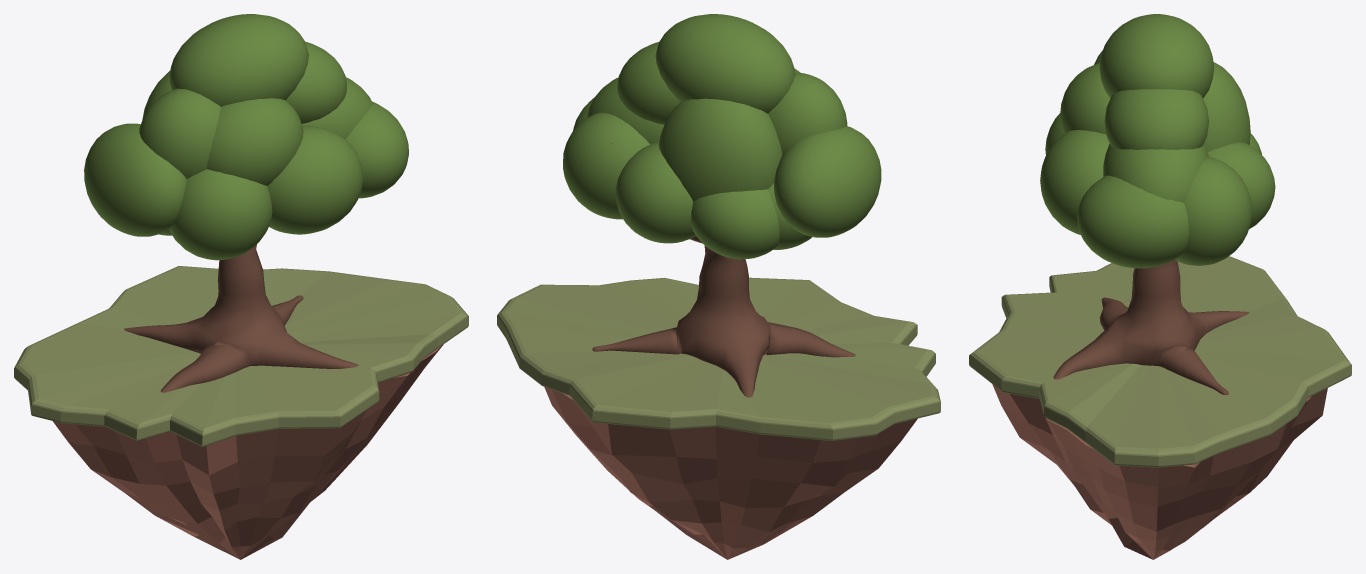
Rendered from island_spring.glb.
3 renders of one model, left to right at view 1: azimuth 30°, elevation 25°; view 2: azimuth 150°, elevation 25°; view 3: azimuth 270°, elevation 25°, orthographic.
Visible parts, largest first — view 1: Grass, Rock, trunk, top.004, top.003, top.008, top.007, top, top.002, top.005, top.006, top.001; view 2: Grass, Rock, trunk, top.004, top.010, top.003, top.009, top.012, top.011, top.002, top.006, top.001 (+1 smaller); view 3: Grass, Rock, trunk, top.005, top.004, top.006, top.009, top.008, top.001, top.010, top, top.012.
Part boxes in pixels (bbox=[...]): Grass: bbox=[14, 266, 468, 446]; Rock: bbox=[53, 344, 443, 559]; trunk: bbox=[124, 244, 358, 392]; top.004: bbox=[169, 14, 308, 106]; top.003: bbox=[84, 123, 186, 236]; top.008: bbox=[267, 125, 363, 234]; top.007: bbox=[169, 169, 272, 260]; top: bbox=[207, 98, 303, 185]; top.002: bbox=[139, 88, 220, 178]; top.005: bbox=[345, 101, 408, 198]; top.006: bbox=[285, 41, 346, 123]; top.001: bbox=[302, 77, 372, 139]; Grass: bbox=[497, 277, 940, 440]; Rock: bbox=[544, 387, 917, 559]; trunk: bbox=[592, 143, 855, 397]; top.004: bbox=[655, 14, 795, 113]; top.010: bbox=[658, 98, 782, 201]; top.003: bbox=[773, 126, 881, 237]; top.009: bbox=[563, 113, 649, 219]; top.012: bbox=[615, 142, 695, 243]; top.011: bbox=[690, 189, 779, 259]; top.002: bbox=[768, 72, 847, 154]; top.006: bbox=[617, 42, 680, 124]; top.001: bbox=[587, 77, 664, 144]; Grass: bbox=[969, 256, 1351, 467]; Rock: bbox=[992, 384, 1327, 559]; trunk: bbox=[1053, 169, 1249, 394]; top.005: bbox=[1077, 175, 1188, 268]; top.004: bbox=[1099, 14, 1213, 98]; top.006: bbox=[1104, 89, 1208, 149]; top.009: bbox=[1175, 157, 1252, 265]; top.008: bbox=[1040, 130, 1109, 234]; top.001: bbox=[1103, 144, 1208, 202]; top.010: bbox=[1203, 62, 1250, 152]; top: bbox=[1060, 63, 1110, 134]; top.012: bbox=[1207, 142, 1275, 229].
Size of the model in its own units: 4.82 by 5.81 by 3.74.
